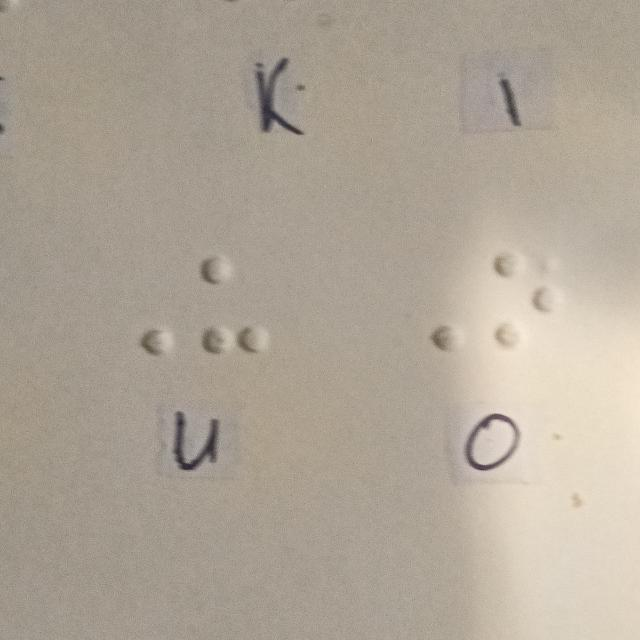O: (495, 252, 564, 350)
U: (199, 255, 267, 353)
capital: (105, 256, 174, 355), (396, 257, 465, 355)
